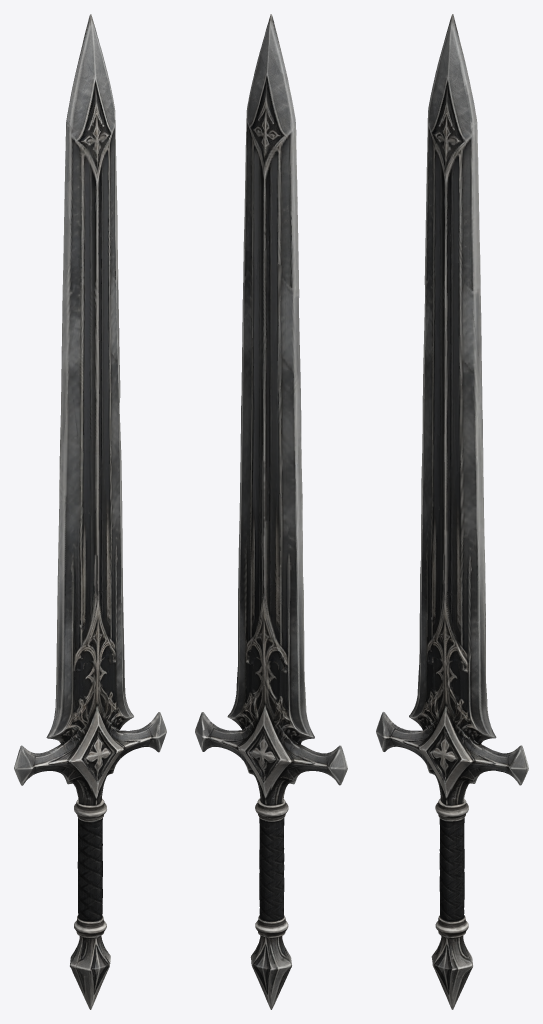
File: GRS054_Remesh_10k.fbx
The picture shows the model from 3 angles, left to right: view 1: azimuth 30°, elevation 25°; view 2: azimuth 150°, elevation 25°; view 3: azimuth 330°, elevation 25°; orthographic projection.
Visible parts, largest first — view 1: output_unwrapped; view 2: output_unwrapped; view 3: output_unwrapped.
Part boxes in pixels (left/top/right/bottom): output_unwrapped: left=14, top=14, right=166, bottom=1009; output_unwrapped: left=195, top=14, right=347, bottom=1009; output_unwrapped: left=376, top=14, right=528, bottom=1009.
Bounding box in the file's own units: 30.46 × 190 × 6.81.
1 material, 1 textured.
